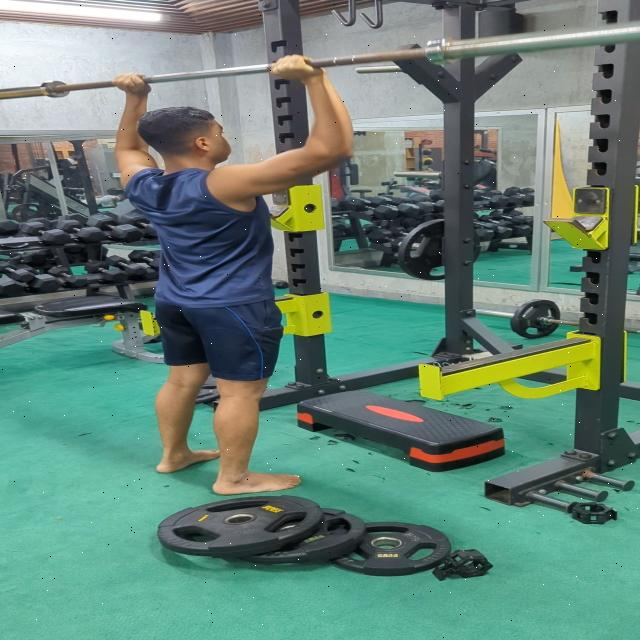Normal_OverheadPress: (101, 47, 385, 493)
